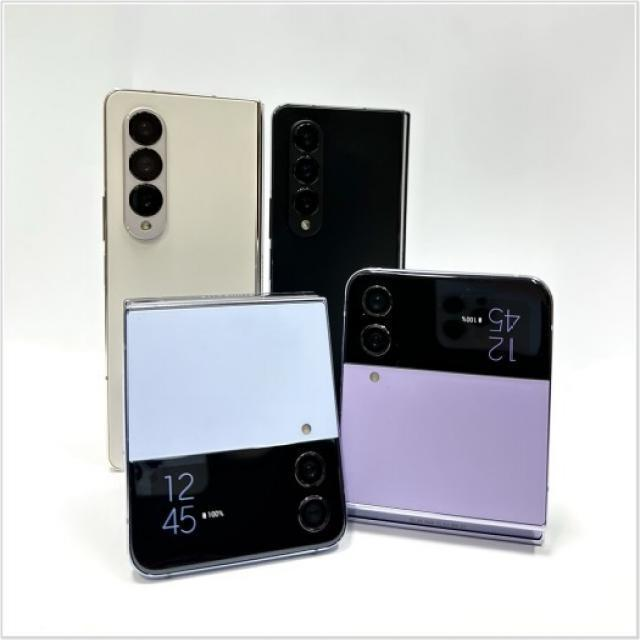phone: (342, 261, 556, 552), (101, 92, 266, 469), (120, 294, 343, 571), (270, 93, 414, 290)
